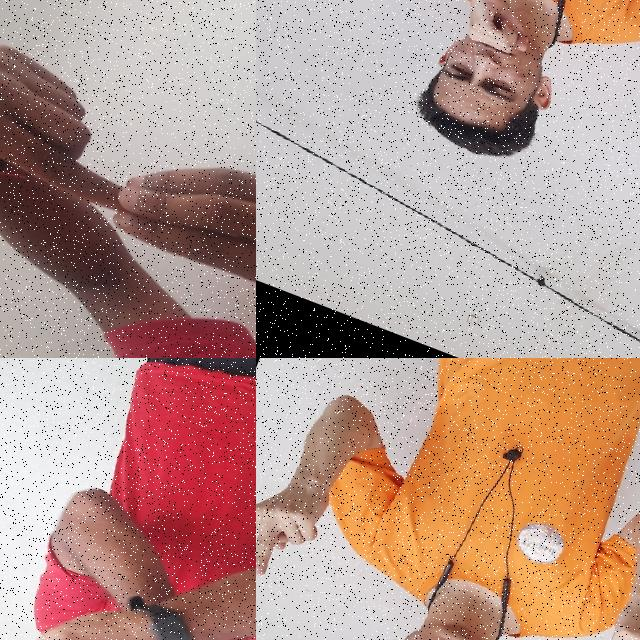Fist Mouth: (396, 0, 598, 186)
Five Fathers: (0, 0, 256, 358)
Middle Finger: (256, 454, 346, 602), (576, 579, 640, 640)
Reversed Victory: (0, 564, 165, 640)
